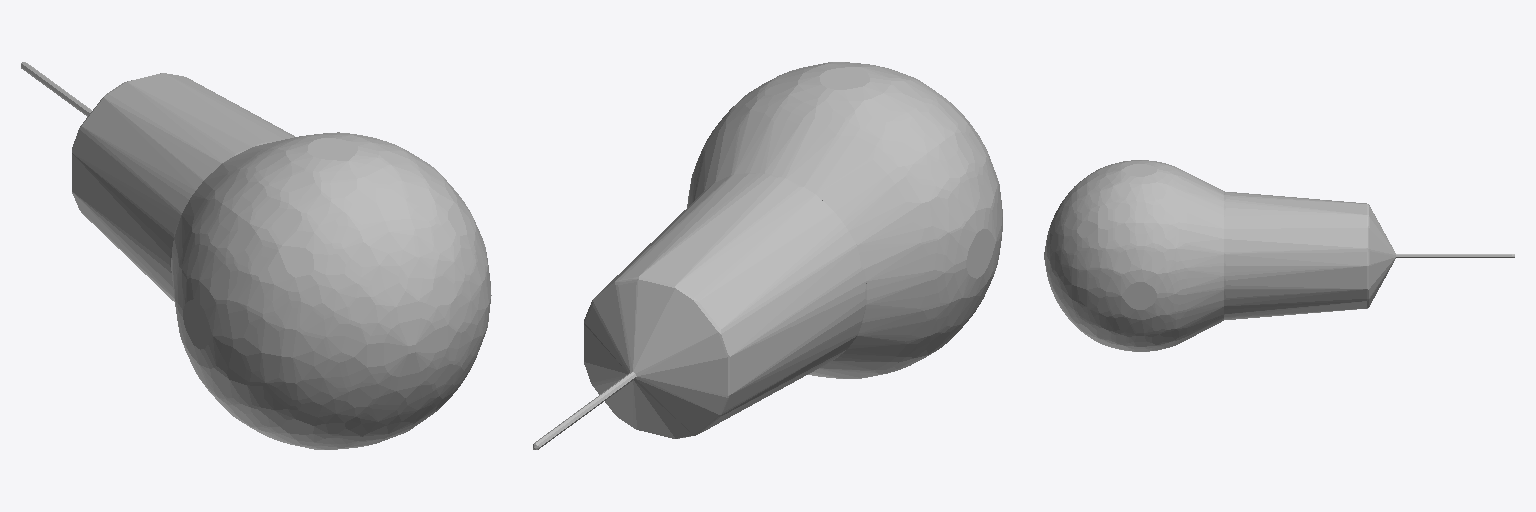
robot.urdf — root:
<?xml version="1.0"?>
<robot name="root">
  <link name="base_link">
    <visual>
      <origin xyz="0 0 0" rpy="0 0 0" />
      <geometry>
        <mesh filename="../meshes/unidex_core_bottle-2f4ec01bad6cd5ac488017d48a7f7eb4_012.obj" scale="1.0000E+00 1.0000E+00 1.0000E+00" />
      </geometry>
      <material name="">
        <color rgba="7.50E-01 7.50E-01 7.50E-01 1" />
      </material>
    </visual>
    <collision>
      <origin xyz="0 0 0" rpy="0 0 0" />
      <geometry>
        <mesh filename="../meshes/unidex_core_bottle-2f4ec01bad6cd5ac488017d48a7f7eb4_012.obj" scale="1.0000E+00 1.0000E+00 1.0000E+00" />
      </geometry>
    </collision>
  </link>
</robot>

--- Render facts (derived) ---
Views: 3 orthographic renders of the robot side by side, from view 1: azimuth 30°, elevation 25°; view 2: azimuth 150°, elevation 25°; view 3: azimuth 270°, elevation 25°.
Model root with 1 links and 0 joints (none), rooted at base_link, posed all joints at 0.
Links seen in each view (by area): view 1: base_link; view 2: base_link; view 3: base_link.
Link boxes in pixels (box(x1,y1,x2,y2)): base_link: box(21, 62, 491, 449); base_link: box(533, 62, 1002, 449); base_link: box(1044, 160, 1514, 351).
Bounding box of the posed robot: 0.0946 × 0.2353 × 0.0946 m (x, y, z).
1 mesh visuals loaded from 1 distinct referenced files (1 OBJ).
